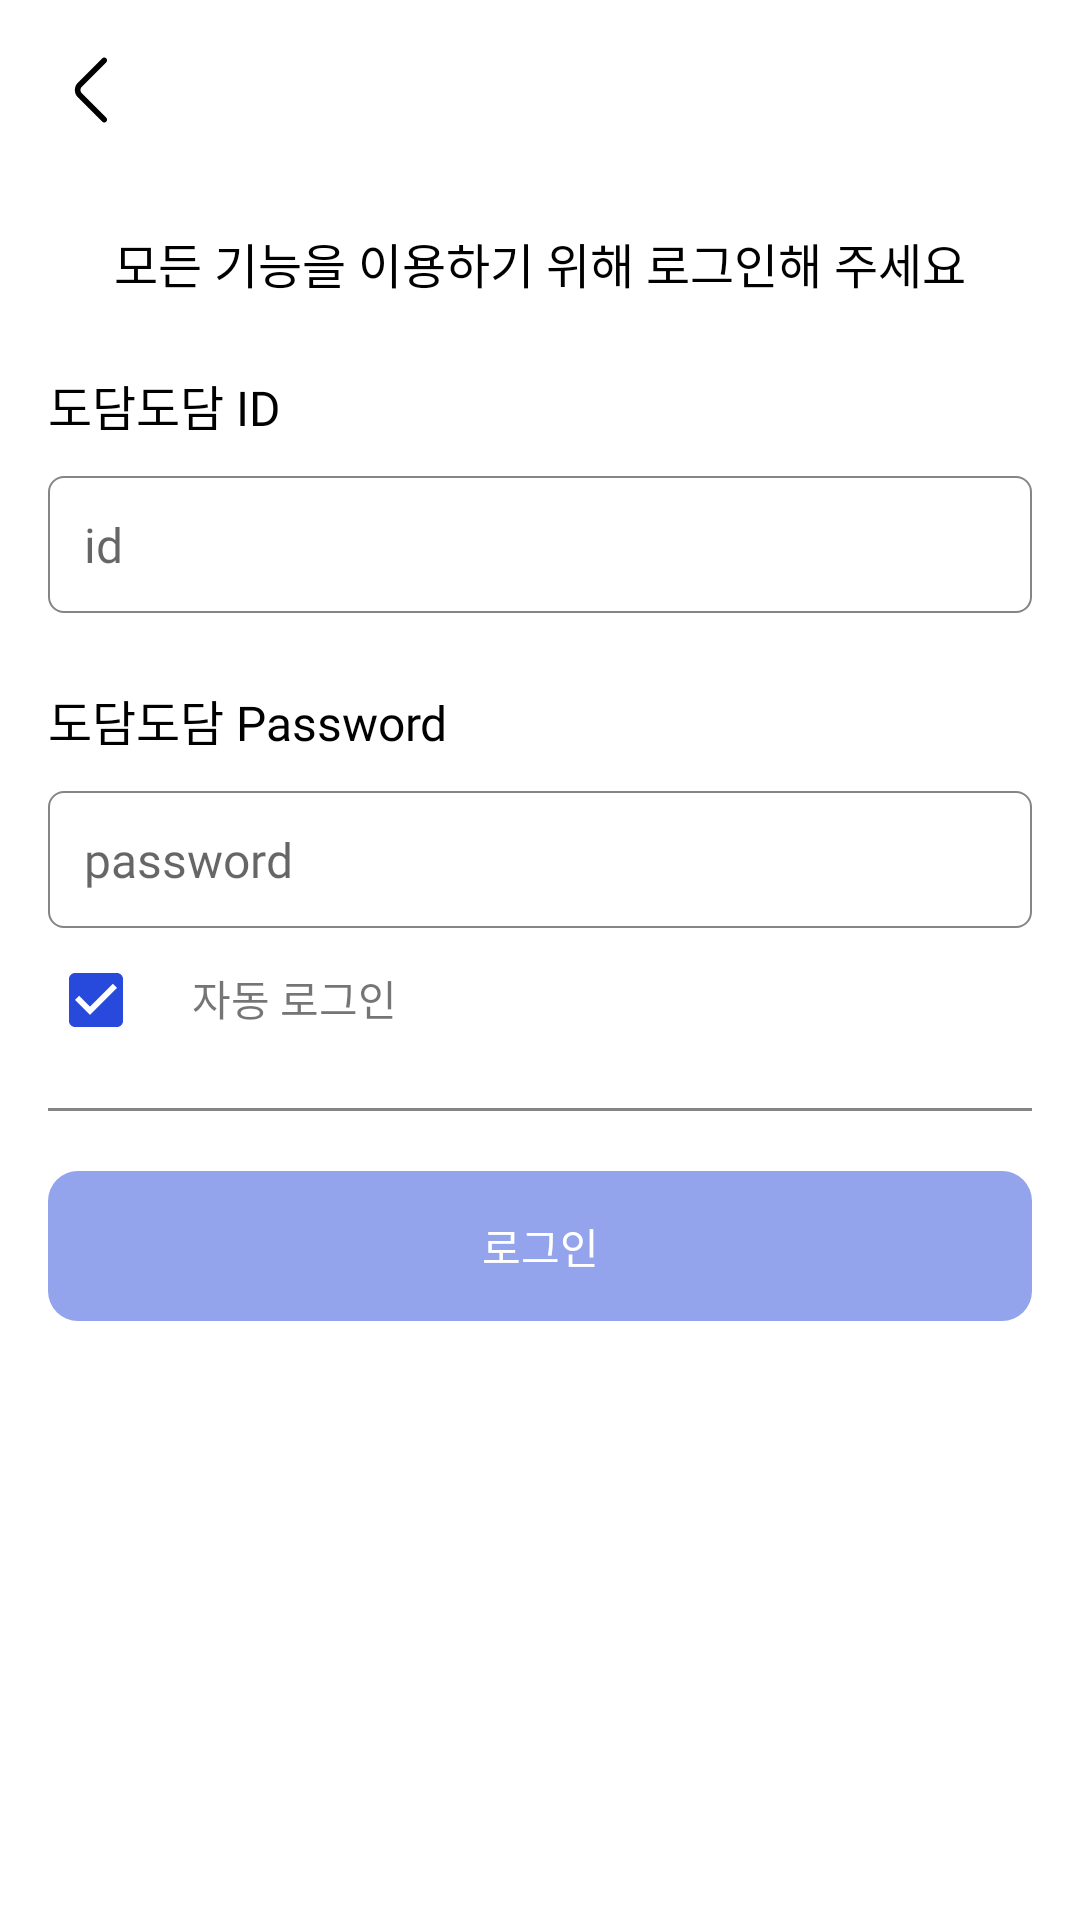

Where to tap for icons on this 1080*1920 app screen, as (x,y):
back: (90,90)
